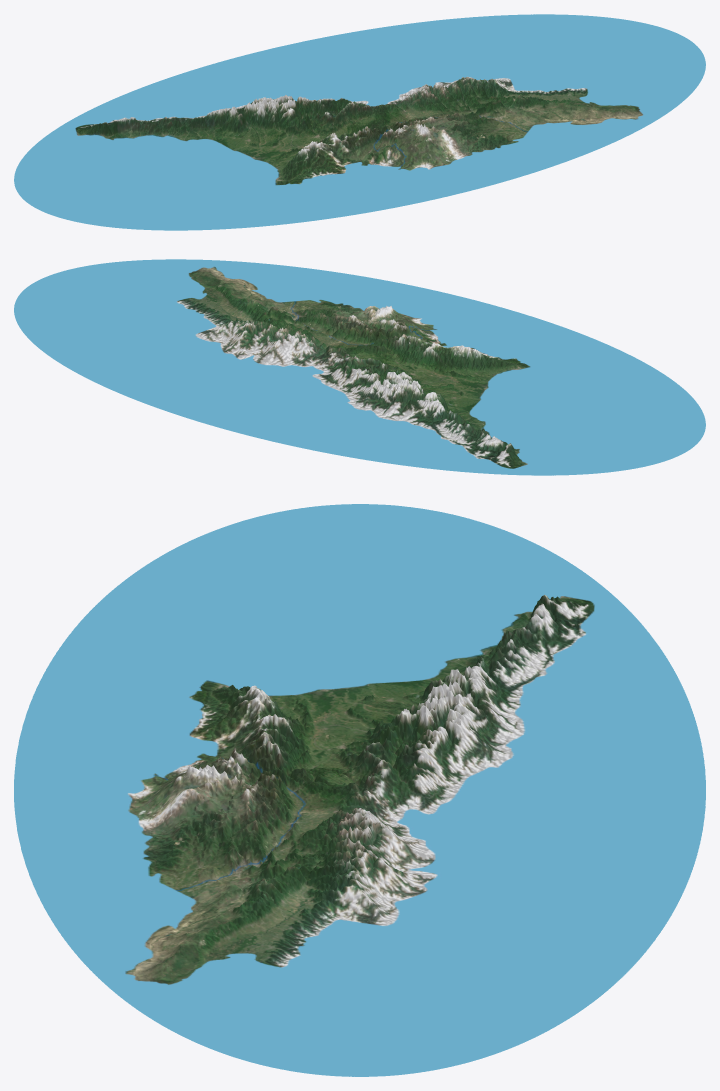
Rendered from GEO-previa-terrain.glb.
3 views of the same model, one above another, from view 1: azimuth 30°, elevation 25°; view 2: azimuth 150°, elevation 25°; view 3: azimuth 270°, elevation 25° (orthographic). The views are drawn at different scales.
Parts seen in each view (by area): view 1: Geórgia; view 2: Geórgia; view 3: Geórgia.
Part boxes in pixels (bbox=[...]): Geórgia: bbox=[14, 14, 705, 230]; Geórgia: bbox=[14, 259, 705, 475]; Geórgia: bbox=[14, 504, 705, 1076].
Bounding box in the file's own units: 2.59 × 0.0896 × 1.32.
1 material, 1 textured.
